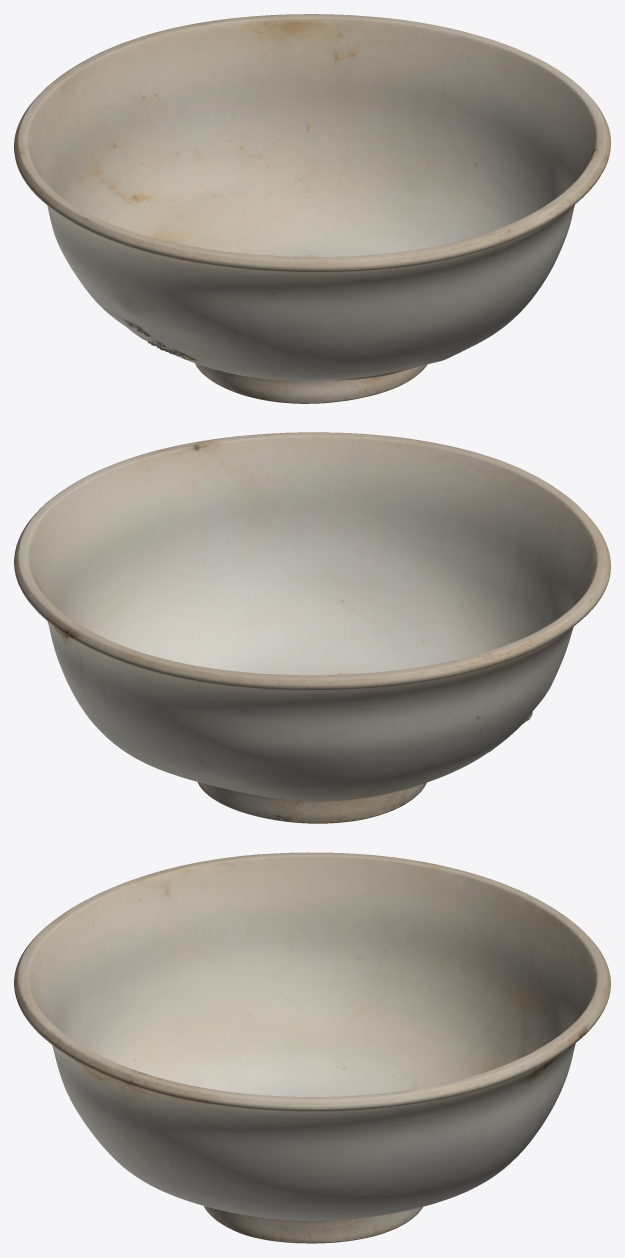
3 renders of one model, top to bottom at view 1: azimuth 30°, elevation 25°; view 2: azimuth 150°, elevation 25°; view 3: azimuth 270°, elevation 25°, orthographic.
Visible parts, largest first — view 1: node_0; view 2: node_0; view 3: node_0.
Boxes of the visible parts, left/top/right/bottom form: node_0: left=14, top=14, right=610, bottom=403; node_0: left=14, top=432, right=610, bottom=823; node_0: left=14, top=852, right=610, bottom=1243.
Bounding box in the file's own units: 1.12 × 0.4529 × 1.12.
Materials: 1 (1 with a texture image).
